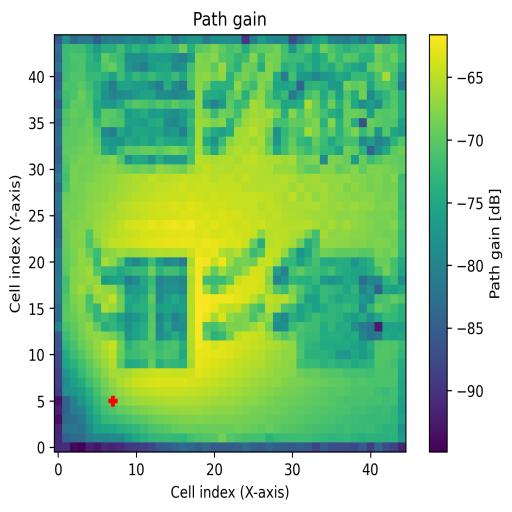Concrete: (296, 52, 390, 154)
Glass: (117, 51, 195, 173)
Metal: (297, 248, 374, 367)
Wood: (117, 257, 187, 368)
